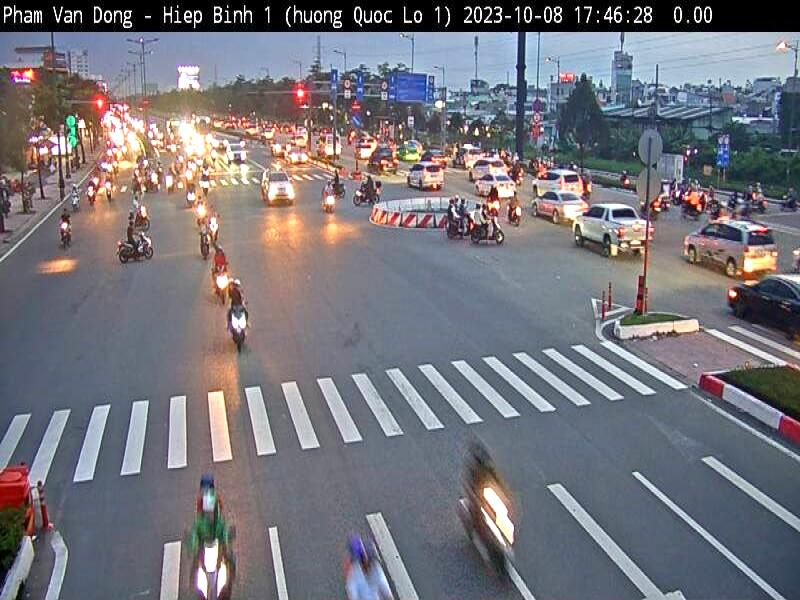car: (724, 259, 800, 354), (682, 210, 778, 285), (577, 199, 655, 281), (522, 173, 587, 231), (534, 162, 590, 204), (477, 170, 523, 215), (264, 169, 298, 217), (462, 146, 515, 168), (403, 154, 440, 183)
